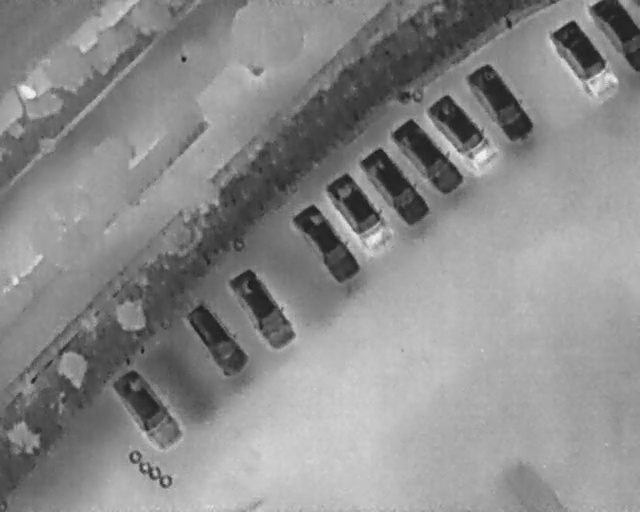Car: (348, 138, 439, 235), (383, 111, 470, 205), (458, 54, 542, 151), (544, 12, 628, 109), (221, 259, 303, 357), (285, 195, 367, 291), (107, 361, 189, 456), (318, 165, 400, 260), (420, 87, 504, 177), (177, 294, 256, 385), (585, 0, 639, 73)
